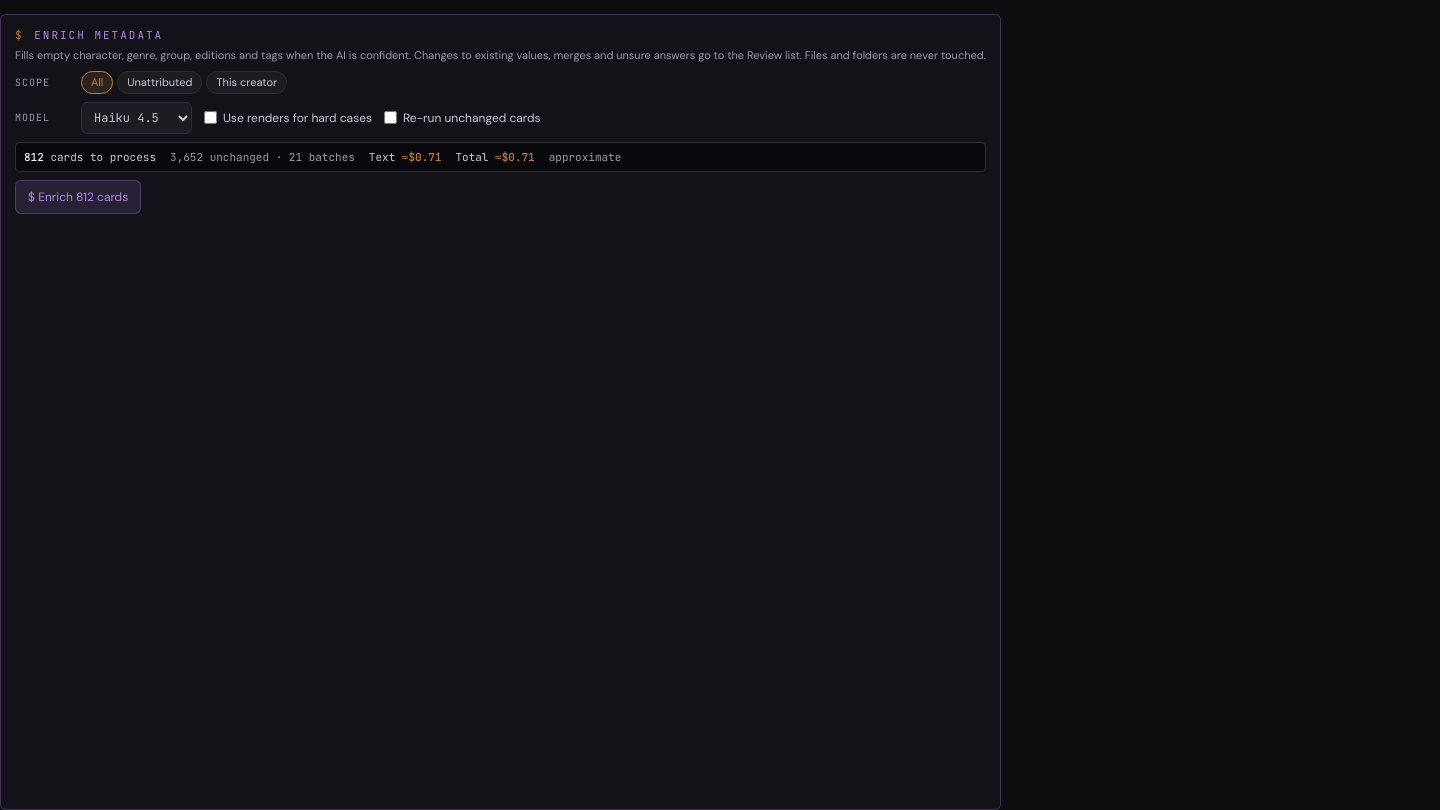
Scenario: EnrichPanel › shows a live estimate: cards to process vs unchanged, text cost; vision adds its cost
Check: the text "812 cards to process" is shown, box [24,148,156,165]
Check: the text "3,652 unchanged · 21 batches" is shown, box [170,148,355,165]
Click the checkbox labelled "Use renders for hard cases".
click(210, 118)  # box [204,111,217,124]
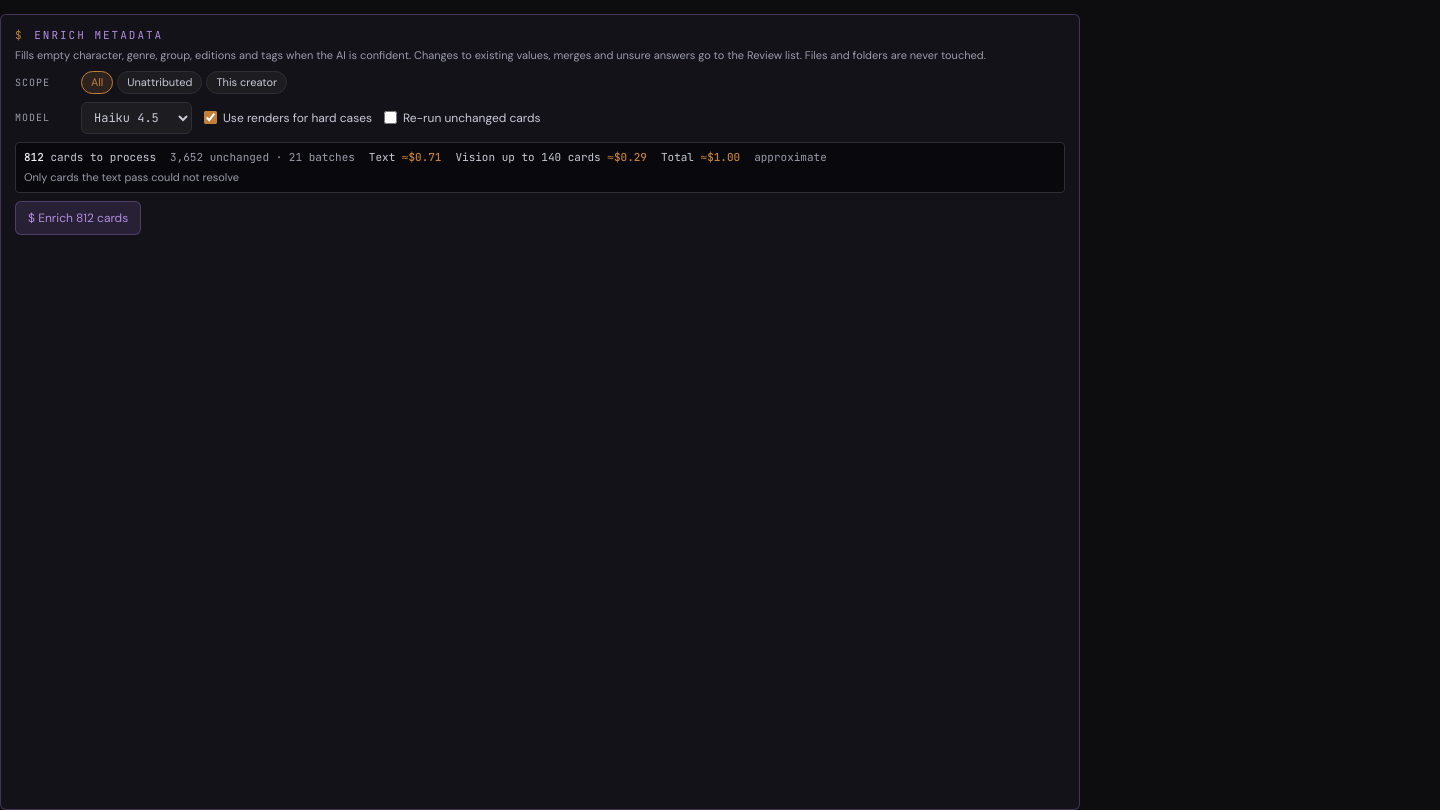
Check: the text "Vision up to 140 cards ≈$0.29" is shown, box [456,148,647,165]
Check: the text "≈$1.00" is shown, box [700,150,740,164]
Check: the text "Only cards the text pass could not resolve" is shown, box [24,170,239,184]
